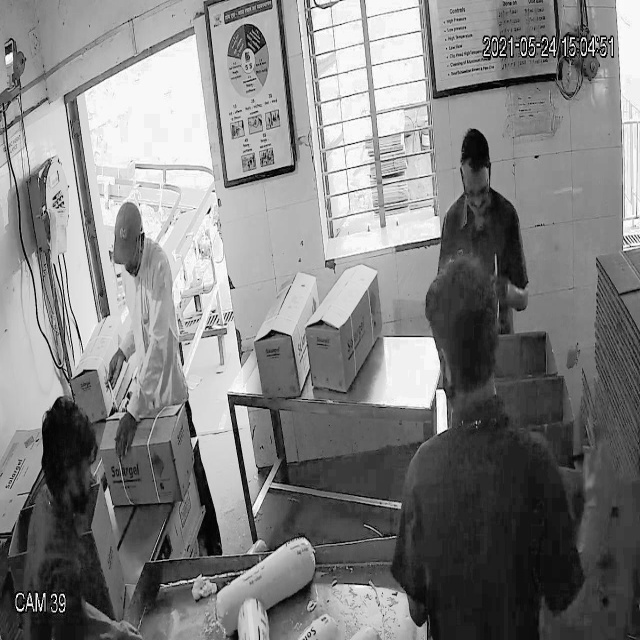Gafas: (458, 167, 493, 209)
